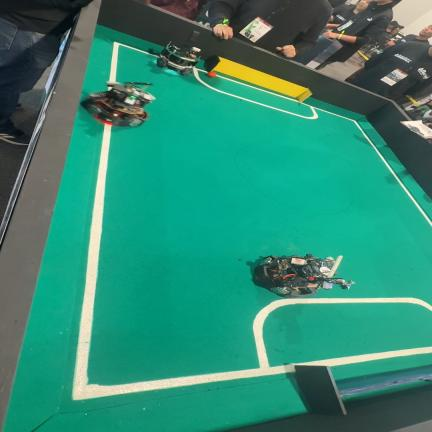cancha: (5, 25, 432, 432)
limites: (72, 124, 432, 400), (193, 69, 432, 227), (222, 76, 294, 102), (109, 42, 155, 80)
pelota: (207, 72, 216, 78)
porteria: (294, 360, 432, 415), (204, 56, 311, 102)
robot: (253, 254, 354, 298), (81, 82, 155, 127), (156, 31, 200, 76)
